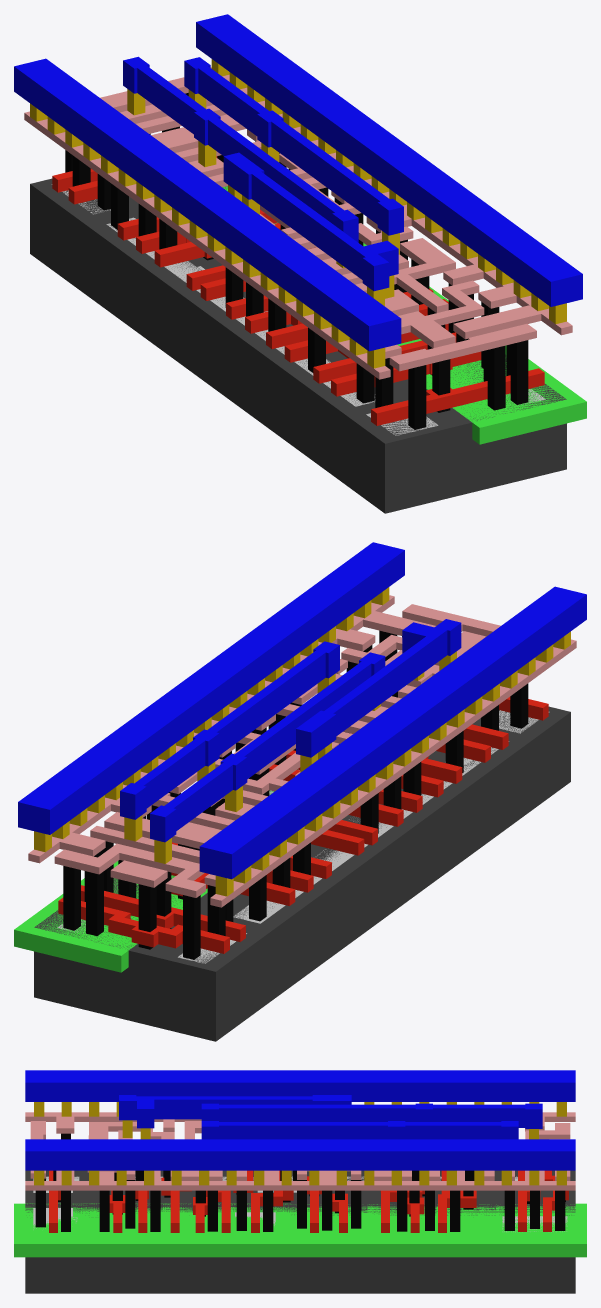
The model's file is sky130_fd_sc_hd__dfrtp_1.obj.
3 views of the same model, one above another, from view 1: azimuth 30°, elevation 25°; view 2: azimuth 150°, elevation 25°; view 3: azimuth 270°, elevation 25° (orthographic). The views are drawn at different scales.
Parts seen in each view (by area): view 1: metal1, subs, li, licon, poly, mcon, nwell, diff; view 2: metal1, subs, li, licon, poly, mcon, nwell, diff; view 3: metal1, subs, nwell, li, licon, poly, mcon, tap.
Boxes of the visible parts, x1,y1,x2,y2 form: metal1: (14, 14, 582, 351); subs: (30, 178, 566, 513); li: (24, 67, 572, 379); licon: (65, 93, 528, 429); poly: (52, 156, 544, 425); mcon: (30, 59, 566, 368); nwell: (222, 186, 586, 444); diff: (51, 184, 438, 435); metal1: (18, 542, 586, 879); subs: (34, 706, 570, 1041); li: (28, 595, 576, 907); licon: (63, 630, 528, 959); poly: (58, 696, 548, 953); mcon: (34, 587, 570, 896); nwell: (14, 790, 273, 972); diff: (178, 710, 549, 963); metal1: (25, 1070, 575, 1170); subs: (25, 1170, 575, 1293); nwell: (14, 1203, 586, 1257); li: (25, 1112, 575, 1190); licon: (35, 1133, 565, 1231); poly: (49, 1170, 568, 1232); mcon: (34, 1102, 566, 1185); tap: (33, 1208, 567, 1232).
Size of the model in its own units: 3.2 by 2.74 by 9.58.
